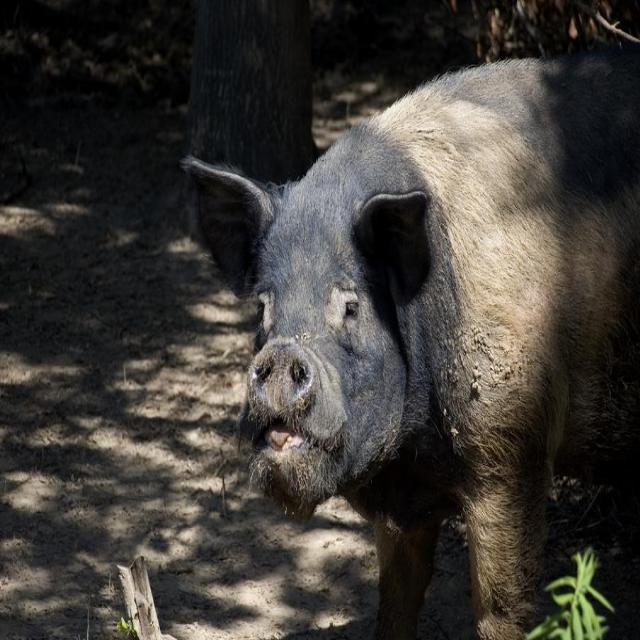pig: (185, 49, 640, 638)
